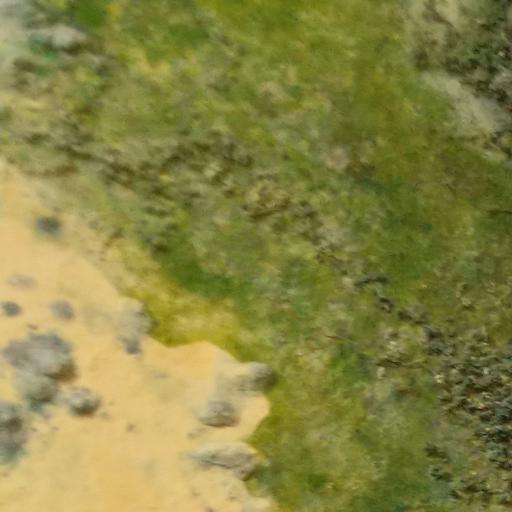algae: (35, 5, 512, 512)
